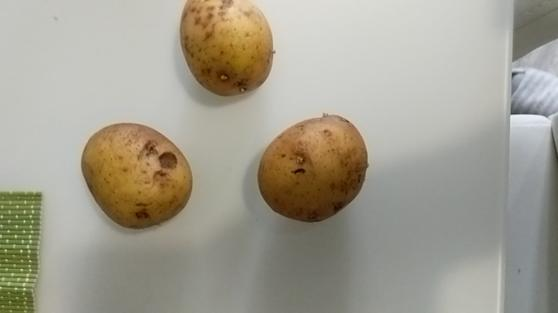potato: (81, 122, 196, 228), (258, 114, 369, 222), (182, 1, 275, 97)
